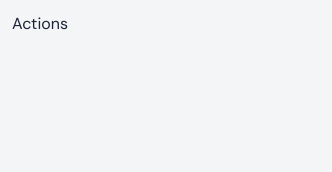
Test: useTouchSafeMenu › keeps the default mouse and keyboard behavior
Step 1. Click the button "Actions" → (40, 24), box [12,12,68,36]
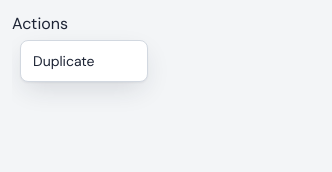
Result: the menu is shown at [20,40,148,82]
Step 2. Press Escape
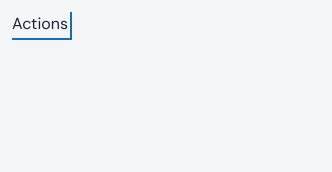
Result: the menu is gone
Step 3. Press Enter
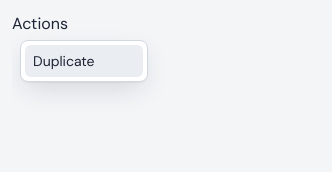
Result: the menu is shown at [20,40,148,82]
